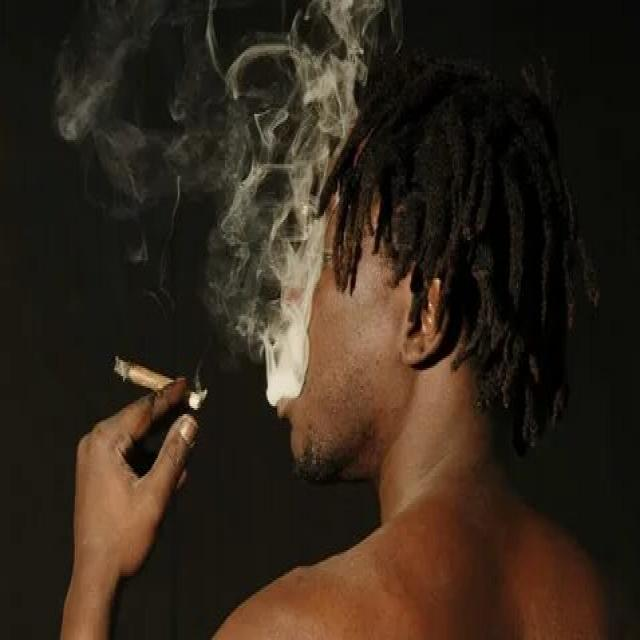smoke: (110, 352, 206, 416)
